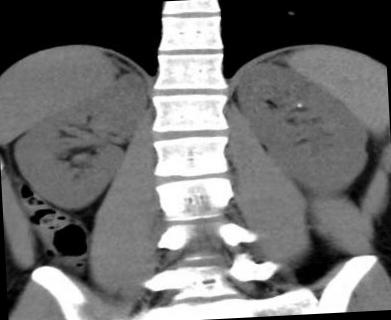Tas_Var: (295, 102, 303, 109)
